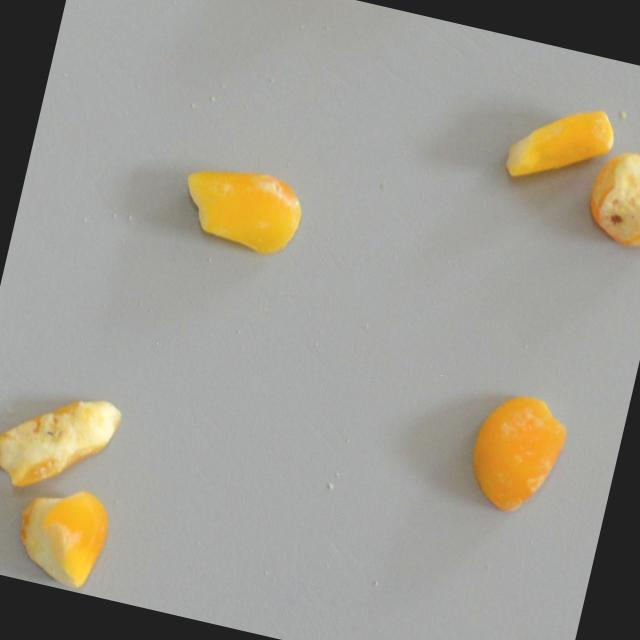dañado: (454, 378, 574, 527), (167, 147, 311, 265), (577, 142, 640, 254)
estandar: (8, 476, 115, 596)
pelicula: (496, 102, 621, 185)
punto_negro: (0, 372, 125, 508)
